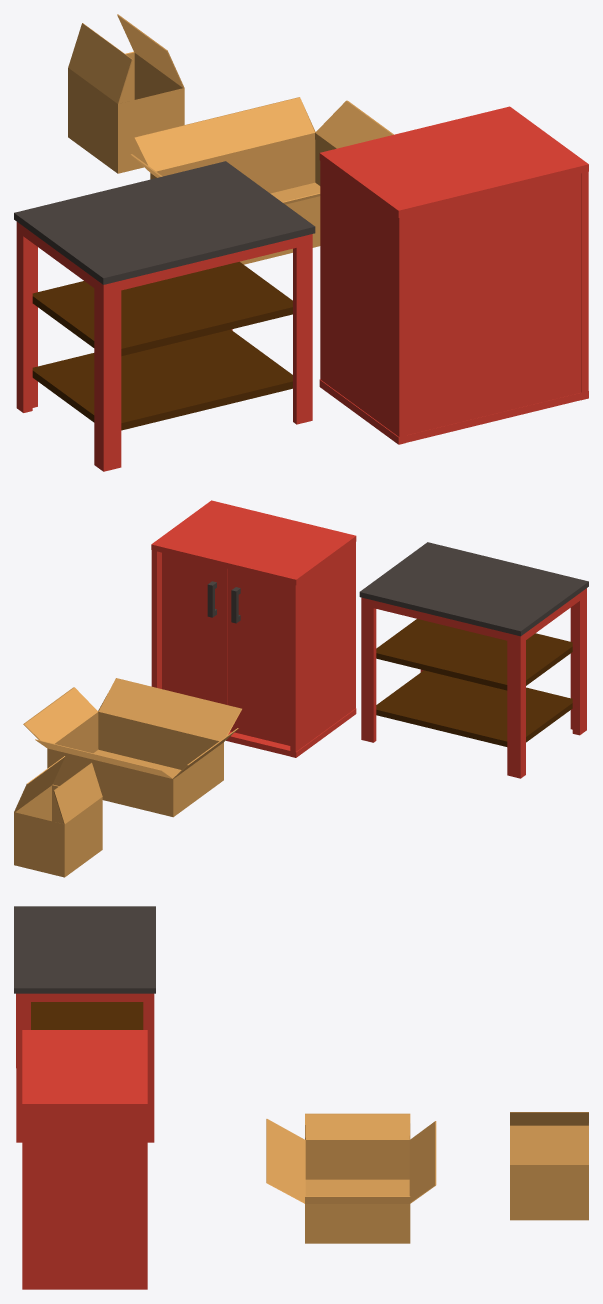
The model's file is Maintenance parts.fbx.
The picture shows the model from 3 angles, top to bottom: view 1: azimuth 30°, elevation 25°; view 2: azimuth 150°, elevation 25°; view 3: azimuth 270°, elevation 25°; orthographic projection. The views are drawn at different scales.
Parts seen in each view (by area): view 1: Cube.007, Cube.001, Cube.006, Cube.008, Cube.002, Cube.013, Cube, Cube.005, Cube.014, Cube.003, Cube.004; view 2: Cube.013, Cube.001, Cube.006, Cube.010, Cube.008, Cube.002, Cube.009, Cube.014, Cube, Cube.005, Cube.004, Cube.003; view 3: Cube.004, Cube.013, Cube.001, Cube.008, Cube.014, Cube.002, Cube.005, Cube.003.
Boxes of the visible parts, <box> form: Cube.007: <box>406,173,581,435</box>; Cube.001: <box>14,161,315,284</box>; Cube.006: <box>320,161,406,444</box>; Cube.008: <box>319,106,588,217</box>; Cube.002: <box>16,222,312,471</box>; Cube.013: <box>131,97,393,264</box>; Cube: <box>32,329,292,430</box>; Cube.005: <box>32,261,292,356</box>; Cube.014: <box>68,14,184,173</box>; Cube.003: <box>319,379,588,444</box>; Cube.004: <box>581,171,588,400</box>; Cube.013: <box>23,678,241,817</box>; Cube.001: <box>359,542,588,636</box>; Cube.006: <box>290,542,355,757</box>; Cube.010: <box>227,569,290,745</box>; Cube.008: <box>151,500,356,585</box>; Cube.002: <box>361,588,586,778</box>; Cube.009: <box>162,552,227,704</box>; Cube.014: <box>14,756,102,877</box>; Cube: <box>376,670,572,746</box>; Cube.005: <box>376,619,572,690</box>; Cube.004: <box>151,550,161,688</box>; Cube.003: <box>226,708,356,757</box>; Cube.004: <box>22,1109,147,1283</box>; Cube.013: <box>266,1113,436,1243</box>; Cube.001: <box>14,906,155,993</box>; Cube.008: <box>22,1030,147,1109</box>; Cube.014: <box>510,1112,588,1220</box>; Cube.002: <box>16,993,154,1142</box>; Cube.005: <box>31,1002,143,1029</box>; Cube.003: <box>22,1284,147,1289</box>.
Size of the model in its own units: 2065 by 974 by 2622.
